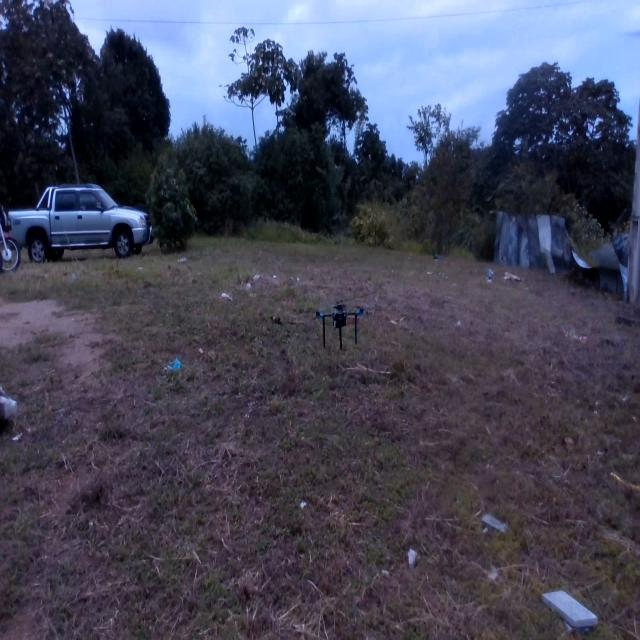-uav-: (311, 290, 368, 360)
